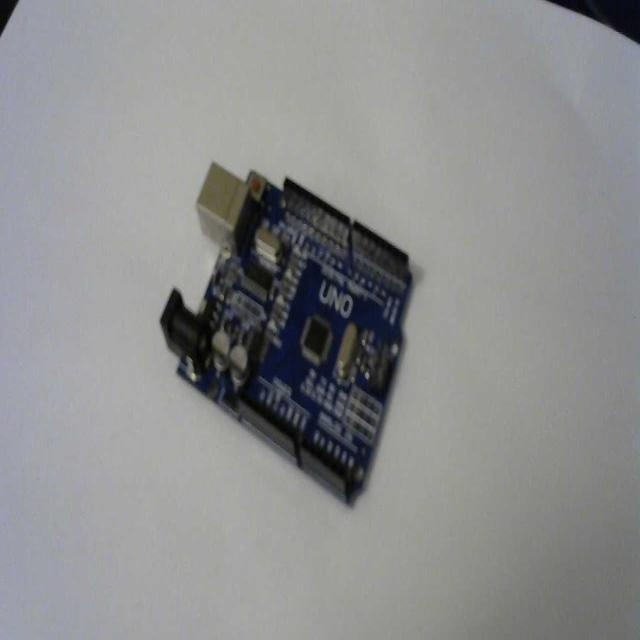arduino: (156, 152, 419, 508)
